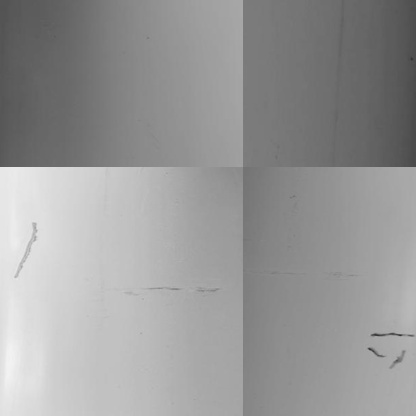fengxi: (370, 328, 412, 339), (393, 348, 409, 369), (364, 346, 385, 359)
sunshang: (16, 217, 40, 285)
